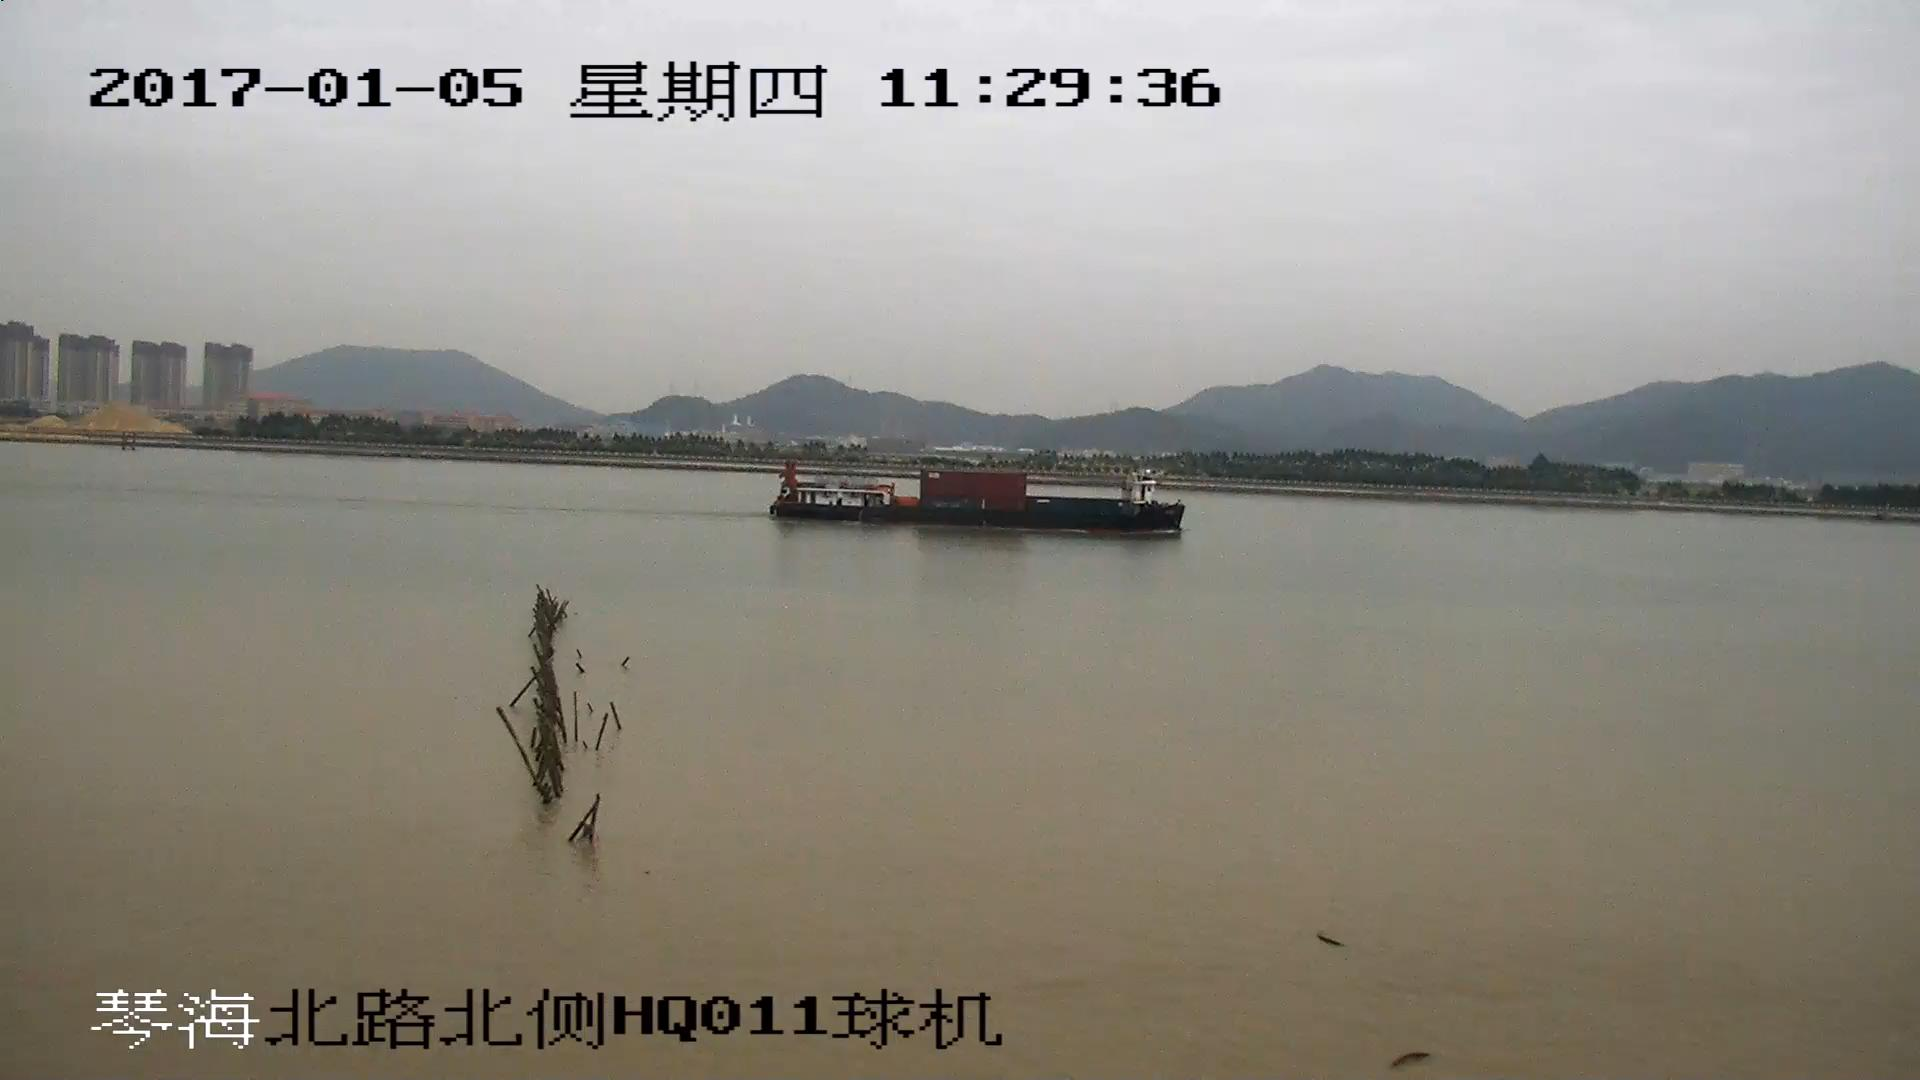container ship: (769, 463, 1183, 536)
